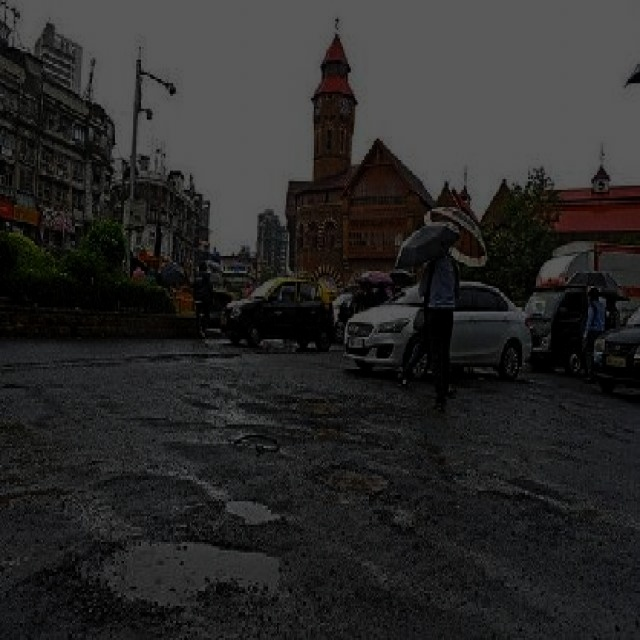Pothole: (83, 533, 289, 610), (316, 459, 390, 497), (220, 490, 282, 524), (231, 428, 280, 451)
